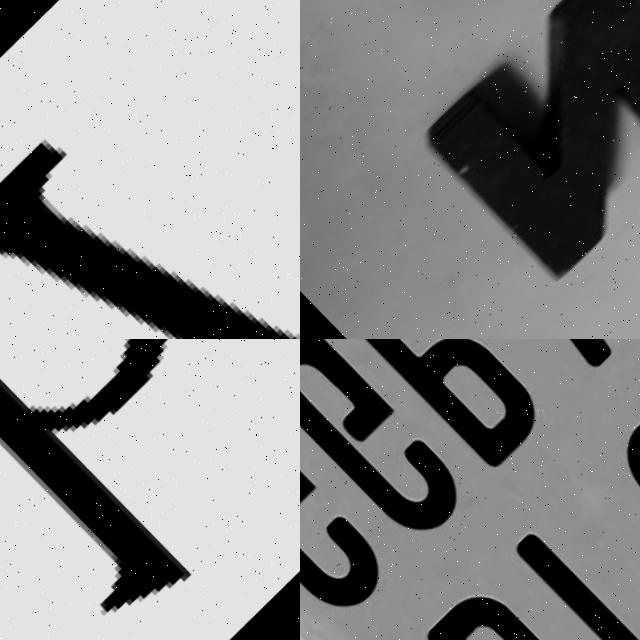B: (423, 568, 640, 640)
G: (300, 339, 485, 548), (300, 389, 408, 628)
N: (420, 0, 640, 289)
P: (320, 339, 568, 471)
R: (0, 0, 300, 339)
T: (492, 501, 640, 640)
